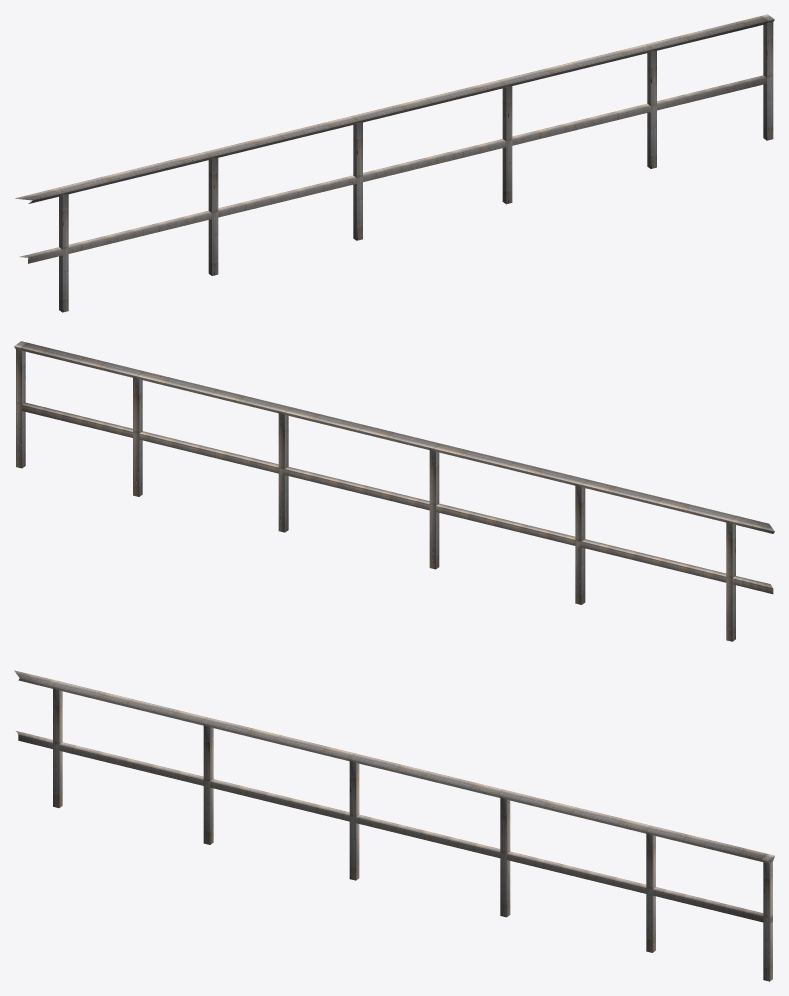
The model's file is M11B_Railing02.glb.
The picture shows the model from 3 angles, top to bottom: view 1: azimuth 30°, elevation 25°; view 2: azimuth 150°, elevation 25°; view 3: azimuth 330°, elevation 25°; orthographic projection.
Visible parts, largest first — view 1: M11B_RAILING02; view 2: M11B_RAILING02; view 3: M11B_RAILING02.
Boxes of the visible parts, left/top/right/bottom form: M11B_RAILING02: left=15, top=14, right=774, bottom=312; M11B_RAILING02: left=14, top=341, right=774, bottom=641; M11B_RAILING02: left=14, top=670, right=774, bottom=981.
Size of the model in its own units: 7.61 by 1.17 by 0.124.
Materials: 1 (1 with a texture image).
